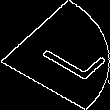L_NW: (14, 27, 96, 83)
